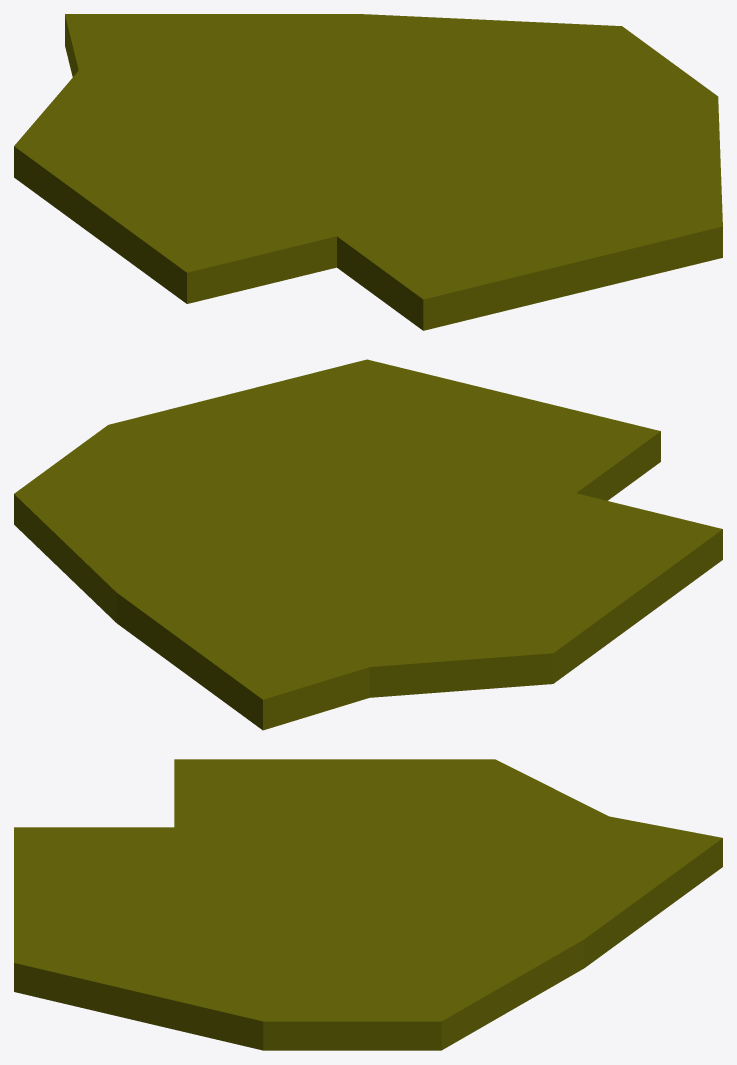
Rendered from x_0_boloto_6_1_rmstrd.fbx.
The picture shows the model from 3 angles, top to bottom: view 1: azimuth 30°, elevation 25°; view 2: azimuth 150°, elevation 25°; view 3: azimuth 270°, elevation 25°; orthographic projection. The views are drawn at different scales.
Parts seen in each view (by area): view 1: x_0_boloto_6_1_rmstrd1; view 2: x_0_boloto_6_1_rmstrd1; view 3: x_0_boloto_6_1_rmstrd1.
Part boxes in pixels (bbox=[...]): x_0_boloto_6_1_rmstrd1: bbox=[14, 14, 722, 330]; x_0_boloto_6_1_rmstrd1: bbox=[14, 359, 722, 730]; x_0_boloto_6_1_rmstrd1: bbox=[14, 759, 722, 1050].
Size of the model in its own units: 3.87 by 0.2 by 4.42.
